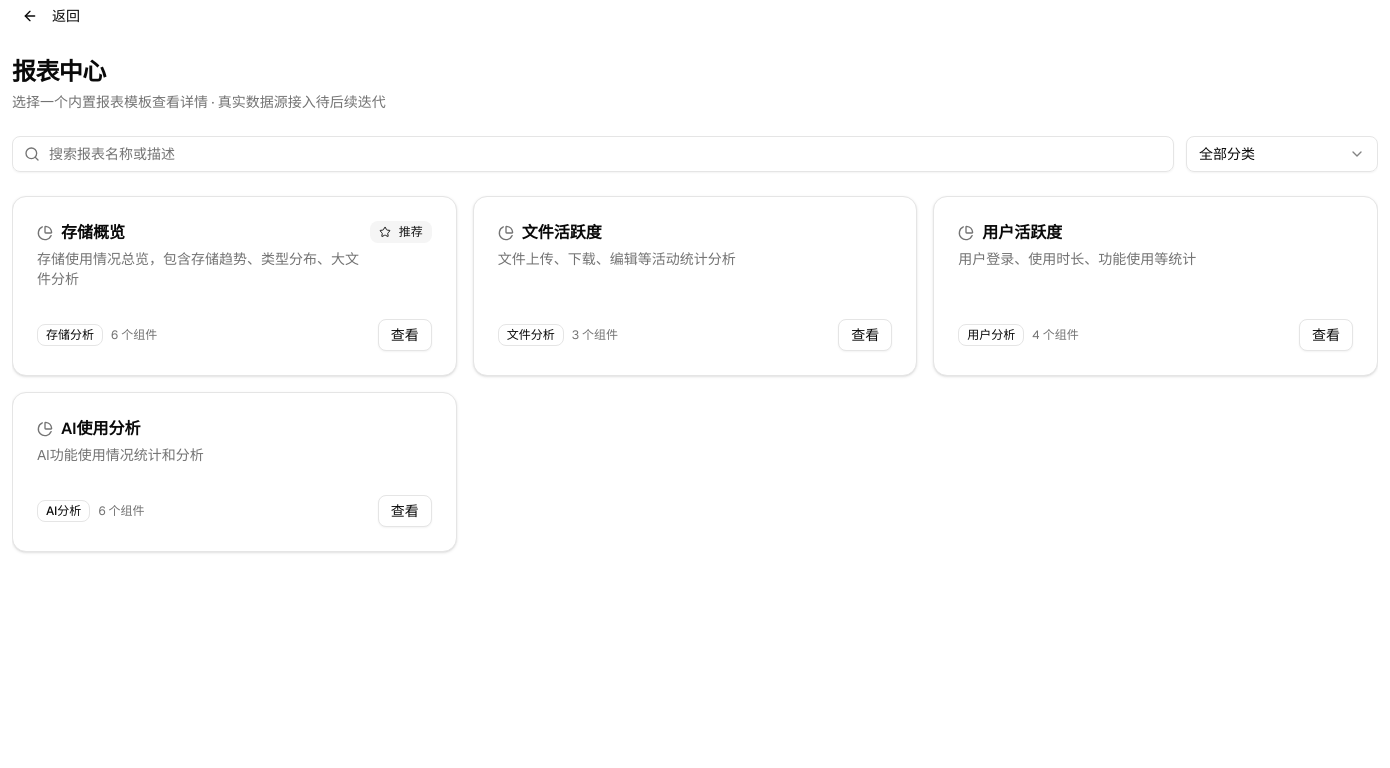
Test case: 报表列表页 /reports › 输入关键词按 name 过滤模板
The image size is (1390, 768).
Type "存储" into the field with test id "reports-search-input" at coordinates (593, 154), box [12,136,1174,172]
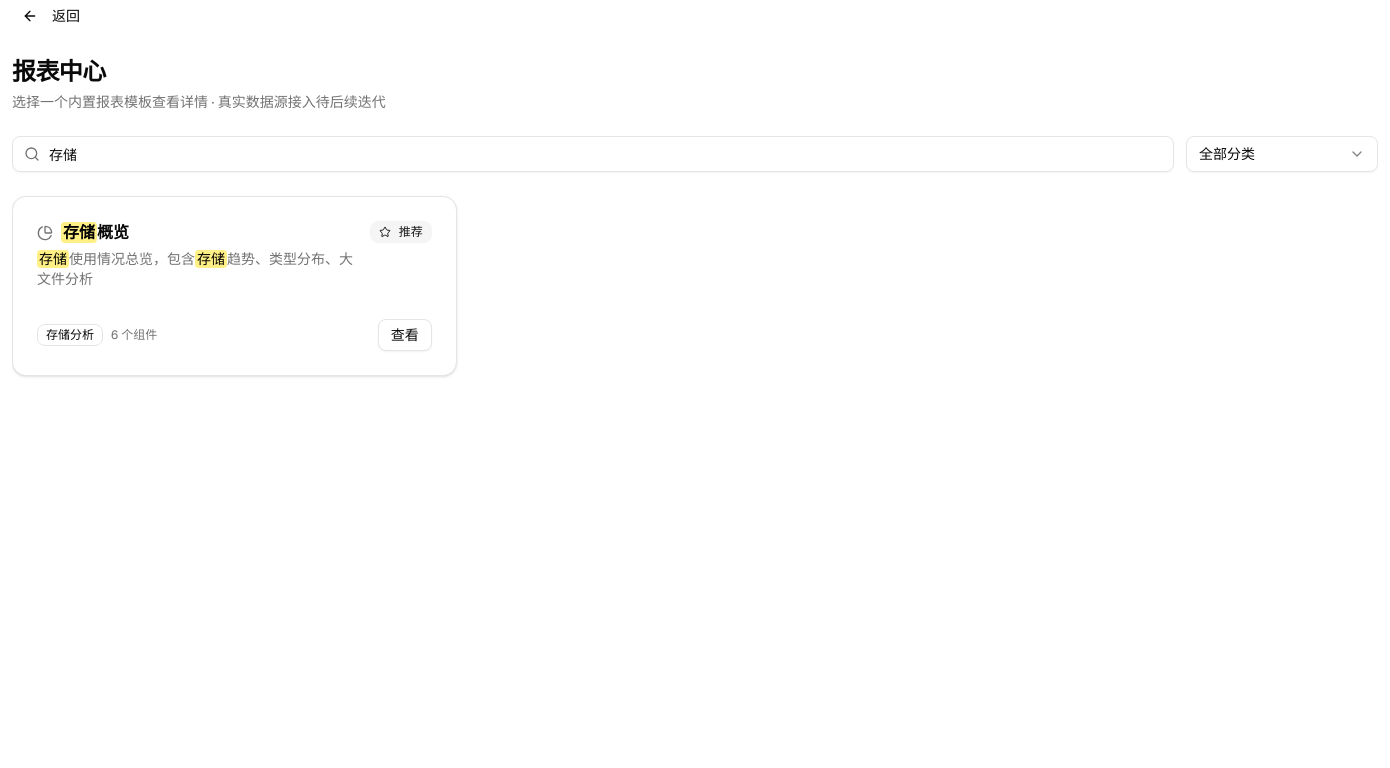
Now the number of elements with test id "report-template-card" is 1, box [12,196,457,376]
